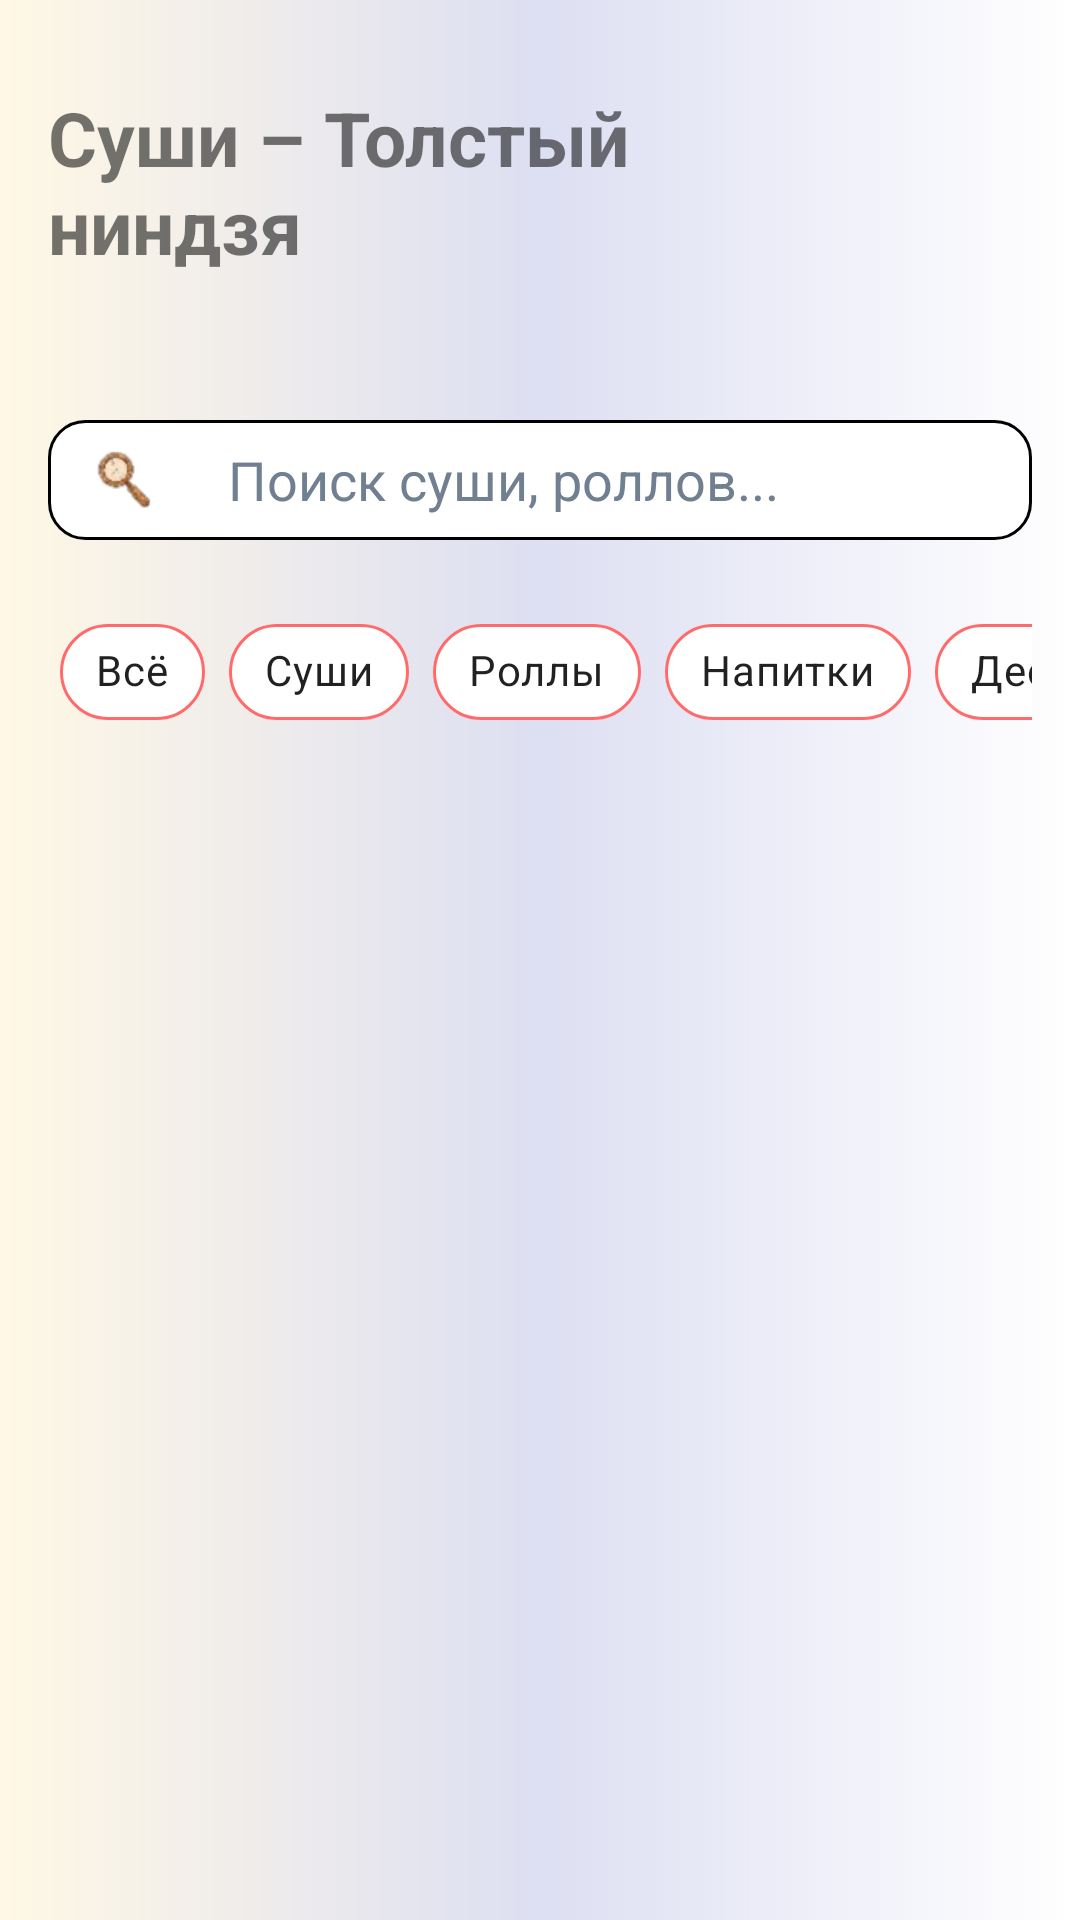

Icons on this 1080px x 1920px Android screen, each with the point to tap as (x=x, y=y):
search: (x=123, y=480)
